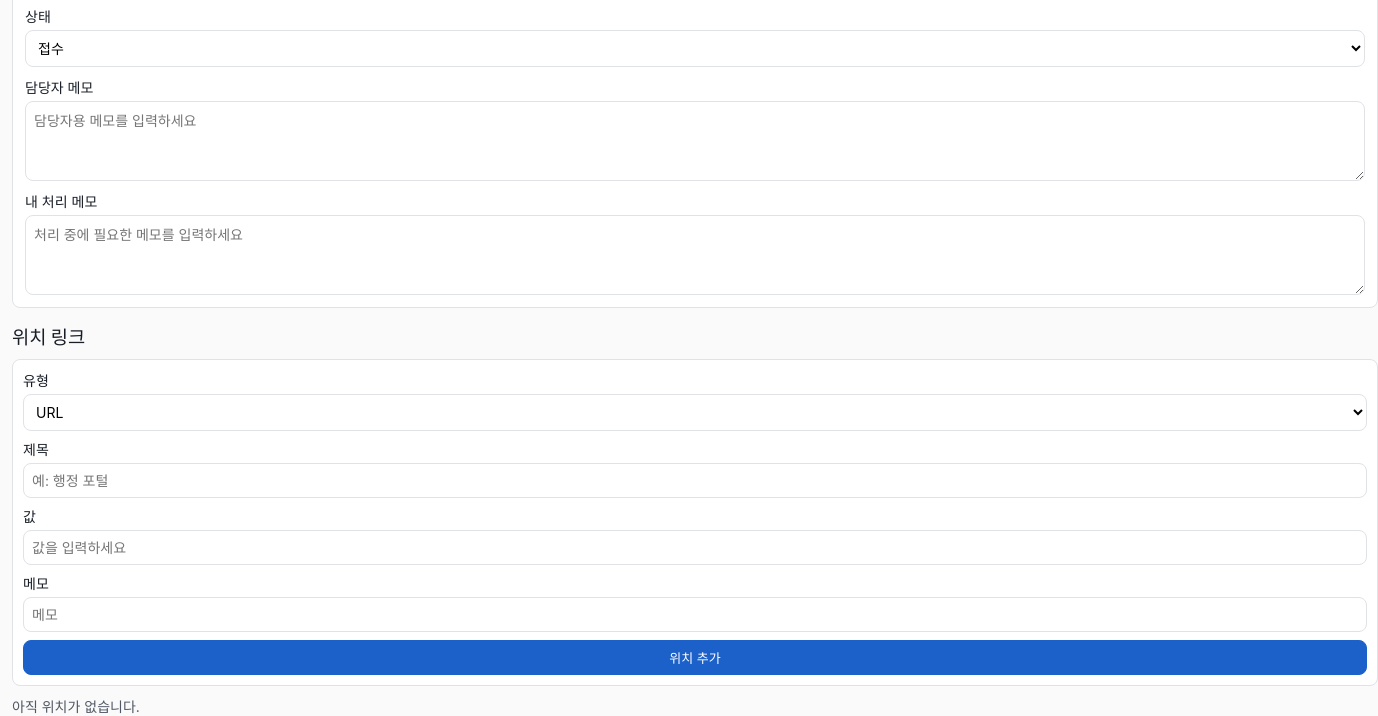
Test case: TaskEditor › falls back invalid URL input to NOTE only after confirming fallback action
(page scrolled)
Step 1. Type "not-a-url" into the field with placeholder "값을 입력하세요" → (695, 548), box [23, 530, 1367, 565]
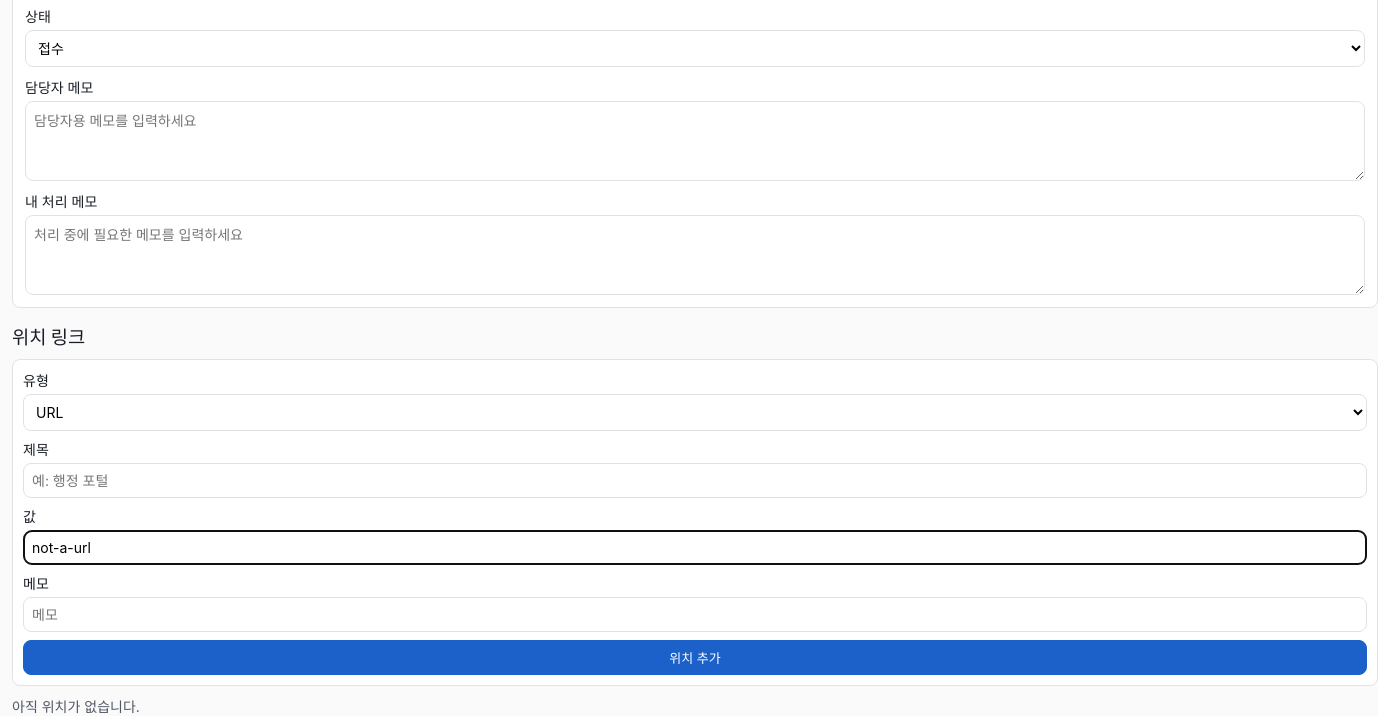
Step 2. Click the button "위치 추가" → (695, 658), box [23, 640, 1367, 675]
(page scrolled)
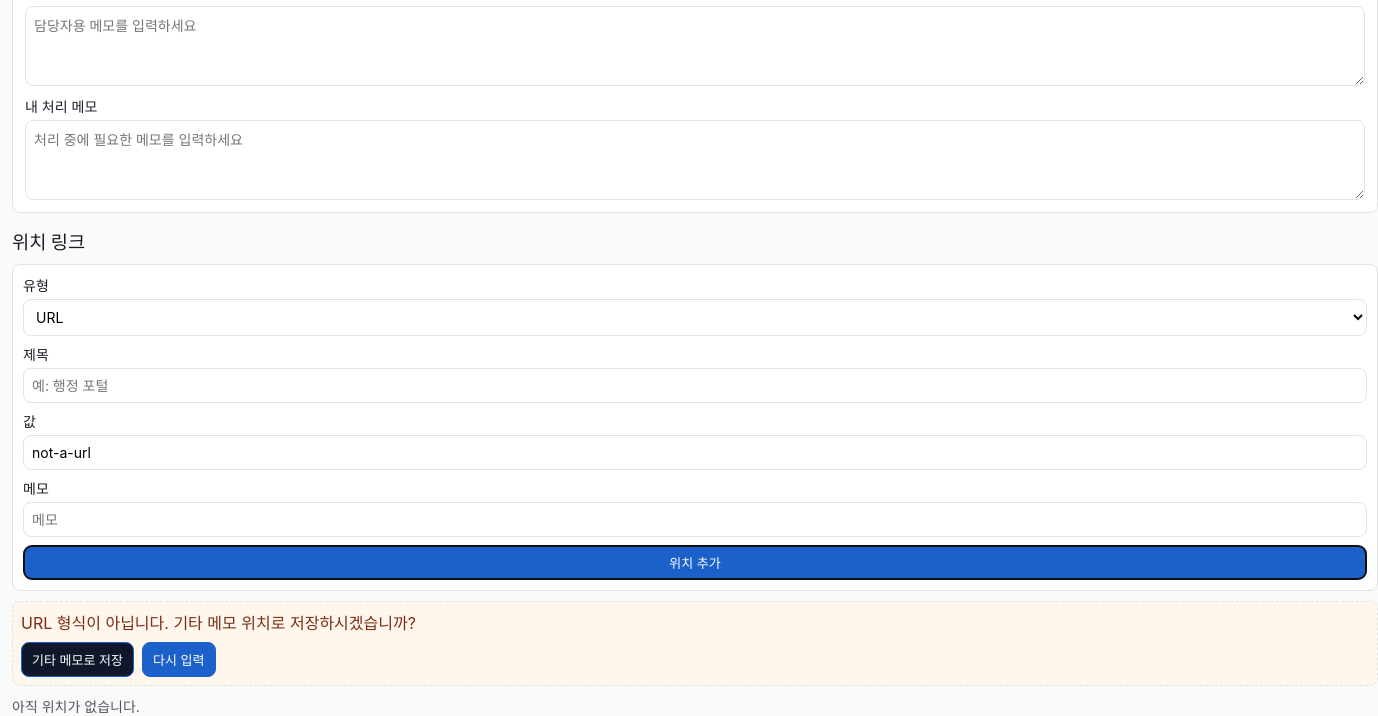
Expected: the message shows "URL 형식이 아닙니다. 기타 메모 위치로 저장하시겠습니까?", [21, 613, 416, 633]
Expected: the button "기타 메모로 저장" is shown
Expected: the button "다시 입력" is shown, [142, 642, 216, 677]
Step 3. Click the button "기타 메모로 저장" → (78, 660), box [21, 642, 134, 677]
(page scrolled)
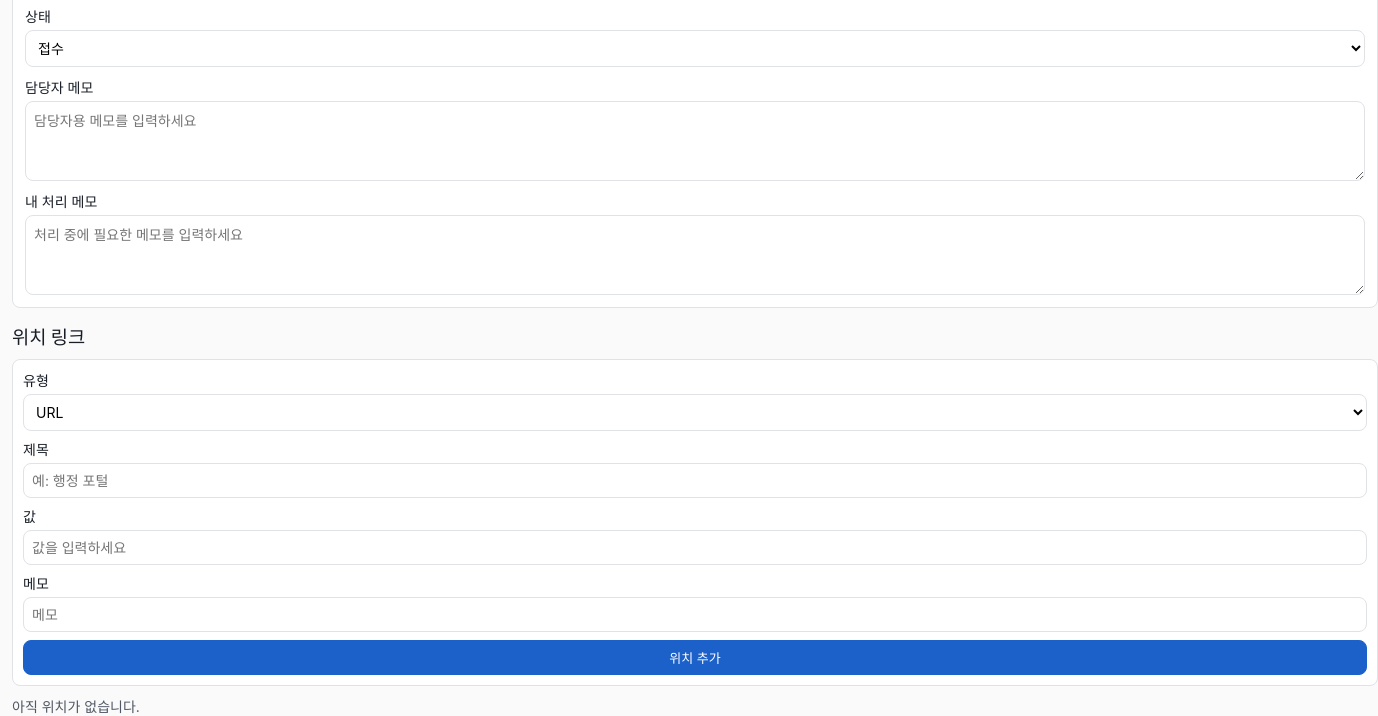
Expected: the text "URL 형식이 아닙니다. 기타 메모 위치로 저장하시겠습니까?" is gone
